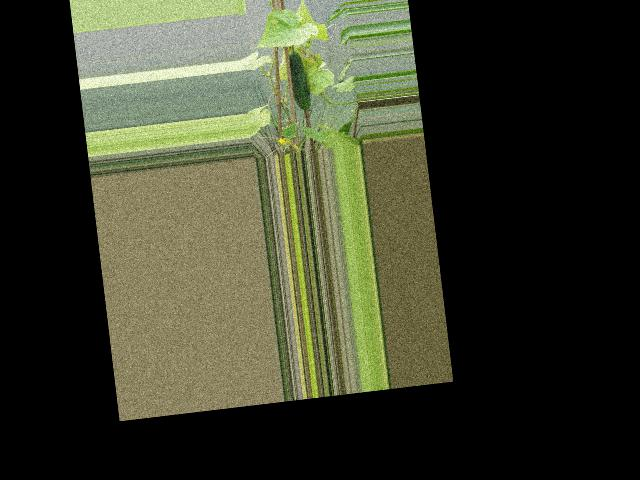cucumber: (287, 50, 312, 112)
